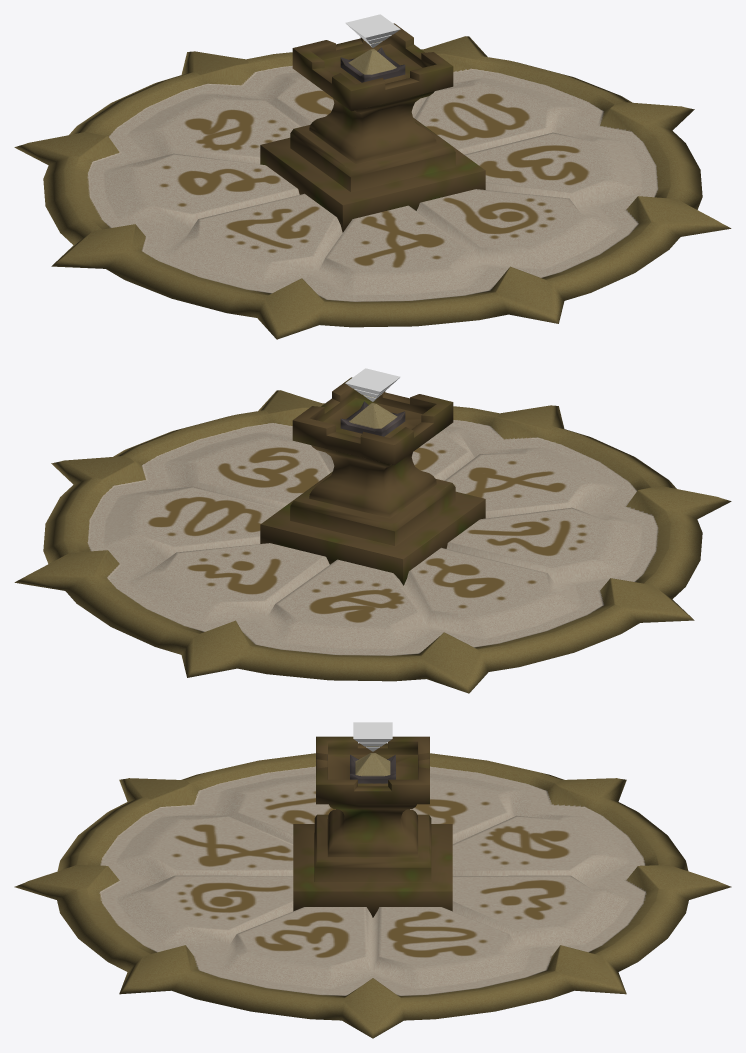
Rendered from daiza.fbx.
3 renders of one model, top to bottom at view 1: azimuth 30°, elevation 25°; view 2: azimuth 150°, elevation 25°; view 3: azimuth 270°, elevation 25°, orthographic. The views are drawn at different scales.
Visible parts, largest first — view 1: 円, 立方体, 立方体.001; view 2: 円, 立方体, 立方体.001; view 3: 円, 立方体, 立方体.001.
Boxes of the visible parts, x1,y1,x2,y2 form: 円: (14, 36, 731, 339); 立方体: (260, 23, 485, 232); 立方体.001: (345, 14, 400, 47); 円: (14, 390, 731, 693); 立方体: (260, 377, 485, 585); 立方体.001: (345, 368, 400, 401); 円: (14, 753, 731, 1038); 立方体: (293, 736, 452, 917); 立方体.001: (353, 722, 392, 751).
Bounding box in the file's own units: 900 × 222 × 900.
